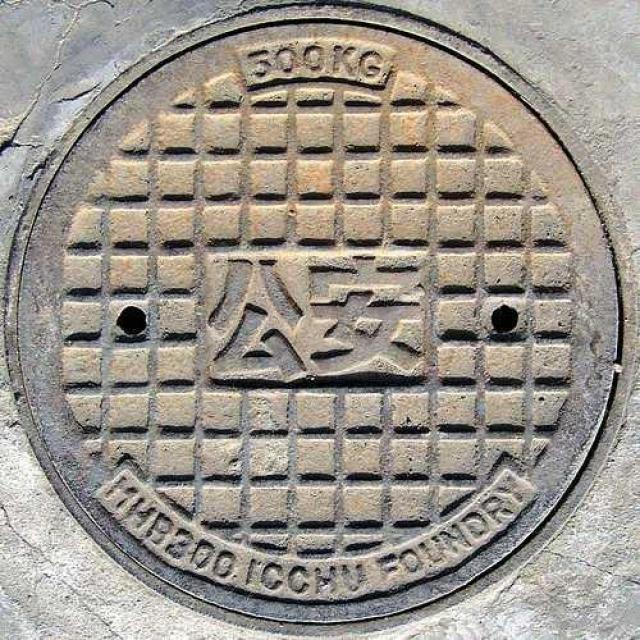manhole: (6, 1, 633, 631)
